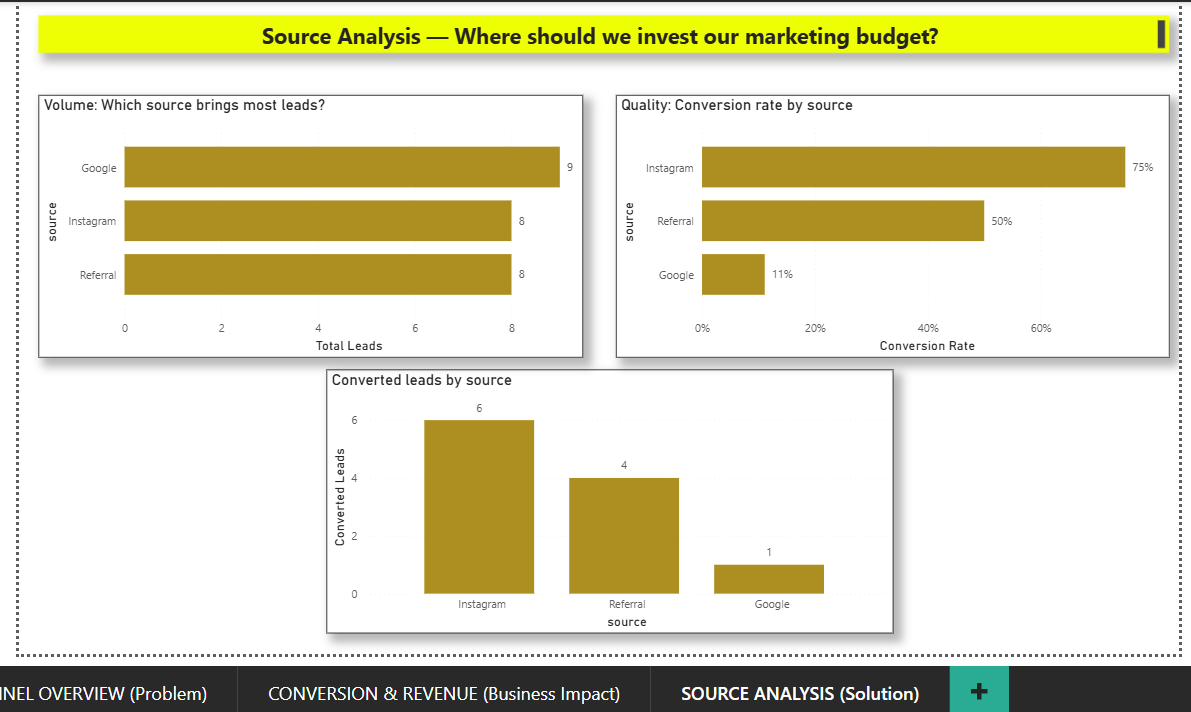

What the dashboard file says about the page in this screenshot:
{"tool":"powerbi","page":{"name":"SOURCE ANALYSIS (Solution)","canvas":[1280,720],"ordinal":2},"visuals":[{"type":"clusteredBarChart","title":"Volume: Which source brings most leads?","fields":{"Category":["leads.source"],"Y":["leads.Total Leads"]},"box":[21.5,102.7,601.3,289.9],"z":0},{"type":"clusteredColumnChart","title":"Converted leads by source","fields":{"Category":["leads.source"],"Y":["leads.Converted Leads"]},"box":[339.6,405.8,626.1,291.5],"z":1000},{"type":"clusteredBarChart","title":"Quality: Conversion rate by source","fields":{"Y":["leads.Conversion Rate"],"Category":["leads.source"]},"box":[659.3,102.7,611.2,289.9],"z":2000},{"type":"textbox","box":[21.5,14.9,1249,41.4],"z":2001}]}

Visuals, with their boxes on the page's 1280x720 design canvas (x1, y1, x2, y2). These are canvas units, not pixel positions in the 1191x712 screenshot, which may show the page scaled, cropped or inside an application window:
"Volume: Which source brings most leads?" clusteredBarChart: x1=22 y1=103 x2=623 y2=393
"Converted leads by source" clusteredColumnChart: x1=340 y1=406 x2=966 y2=697
"Quality: Conversion rate by source" clusteredBarChart: x1=659 y1=103 x2=1270 y2=393
textbox: x1=22 y1=15 x2=1270 y2=56
